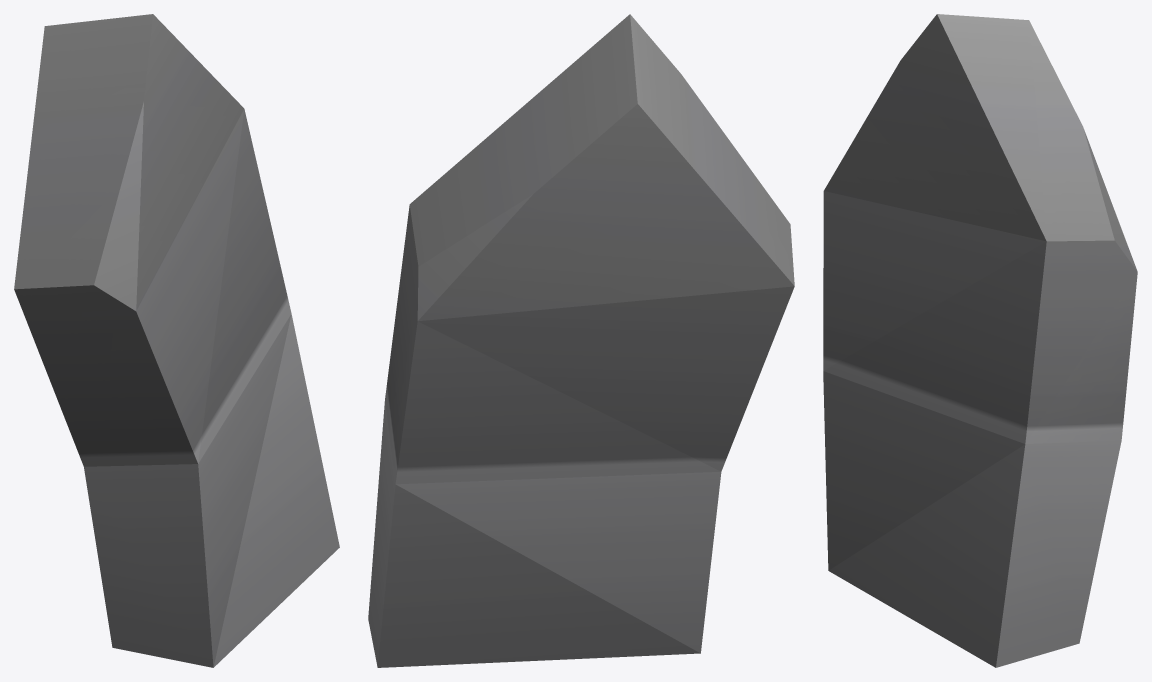
Rendered from ea_grave_stone_mini_01c_pre__19__lev1.glb.
The picture shows the model from 3 angles, left to right: view 1: azimuth 30°, elevation 25°; view 2: azimuth 150°, elevation 25°; view 3: azimuth 270°, elevation 25°; orthographic projection. The views are drawn at different scales.
Visible parts, largest first — view 1: ea_grave_stone_mini_01c_pre__19__lev1; view 2: ea_grave_stone_mini_01c_pre__19__lev1; view 3: ea_grave_stone_mini_01c_pre__19__lev1.
Part boxes in pixels (x1=…): ea_grave_stone_mini_01c_pre__19__lev1: x1=14, y1=14, x2=339, y2=667; ea_grave_stone_mini_01c_pre__19__lev1: x1=368, y1=14, x2=794, y2=667; ea_grave_stone_mini_01c_pre__19__lev1: x1=823, y1=14, x2=1137, y2=667.
Bounding box in the file's own units: 0.7689 × 1.22 × 0.625.
Materials: 1 (1 with a texture image).
